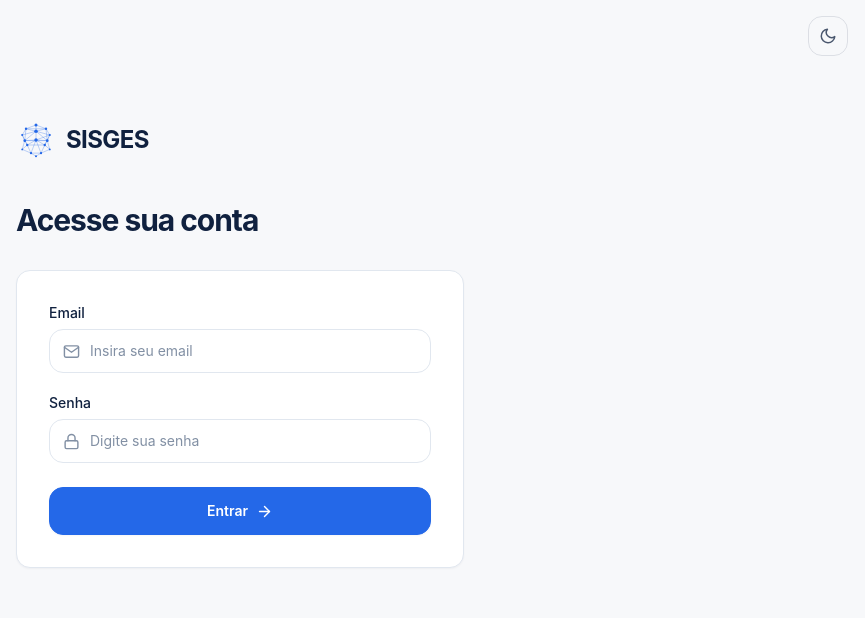
Scenario: Autenticação › exibe erro com credenciais inválidas
Type "invalido@test.local" into the field with id "email" at (240, 351), box [49, 329, 431, 373]
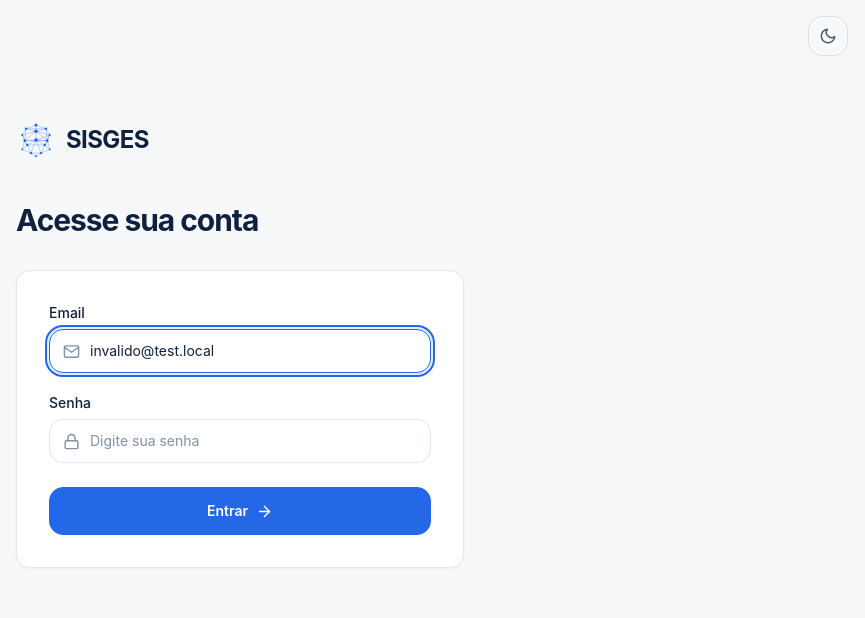
Type "senhaerrada" into the password field labelled "Senha" at (240, 441), box [49, 419, 431, 463]
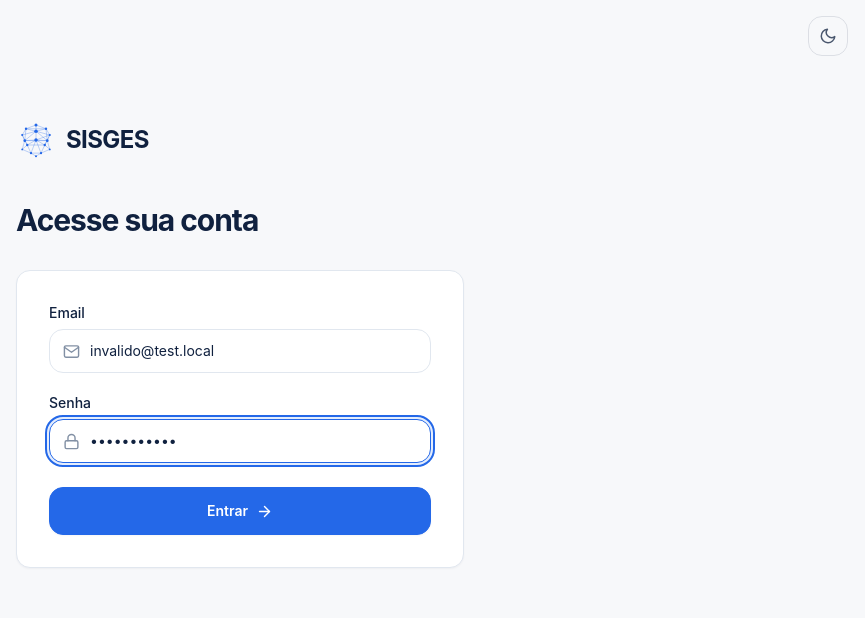
Click the button "Entrar" at (240, 511), box [49, 487, 431, 535]
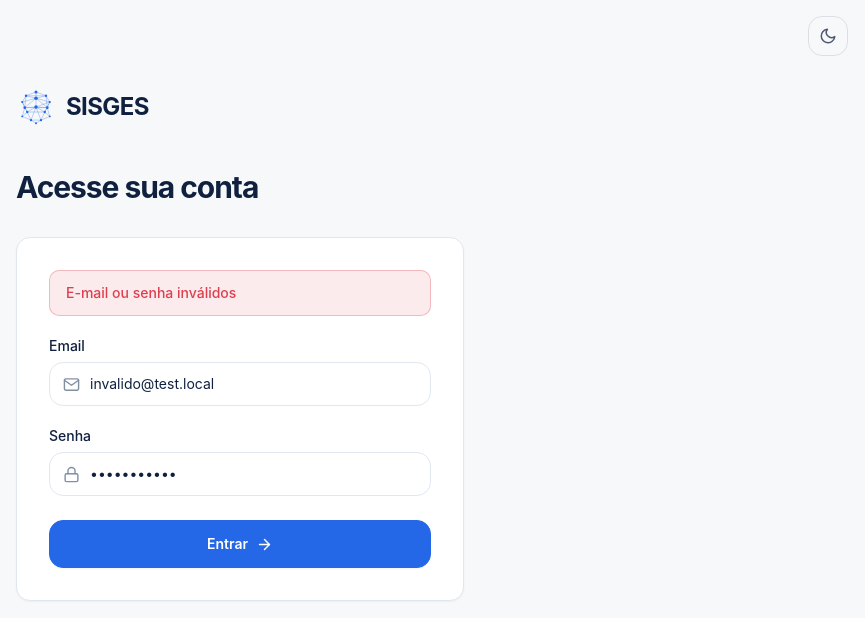
expect the text "E-mail ou senha inválidos" is shown: met, box [49, 270, 431, 316]
